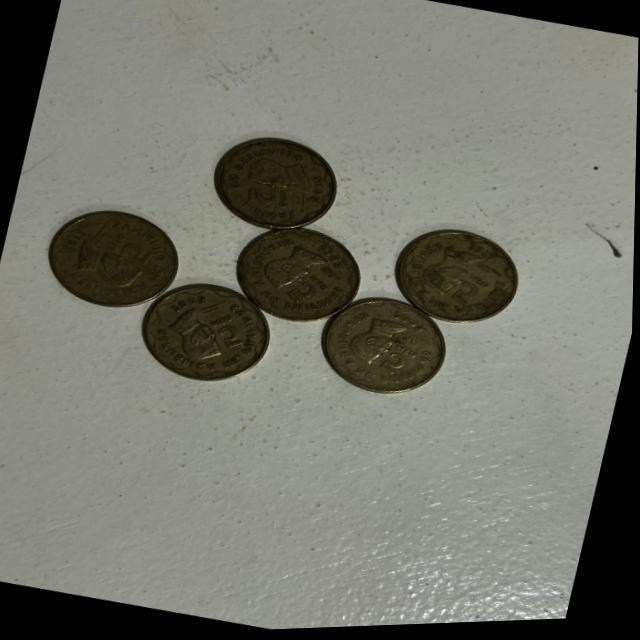5_Old_Front: (197, 311, 257, 361), (97, 228, 165, 272), (372, 333, 427, 387), (280, 272, 338, 317), (446, 268, 496, 320), (243, 182, 301, 220)
